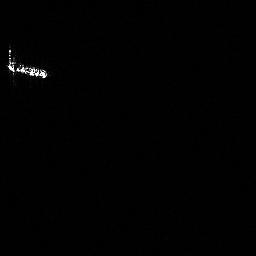ship: (4, 42, 51, 82)
